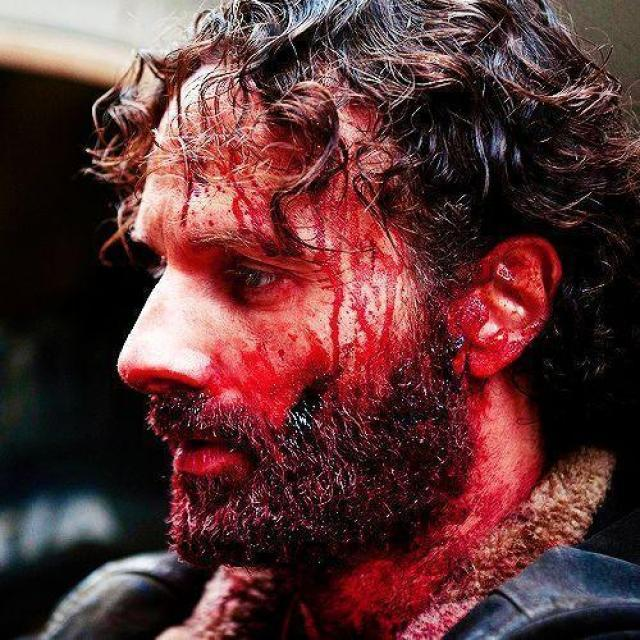flood: (135, 37, 528, 604)
